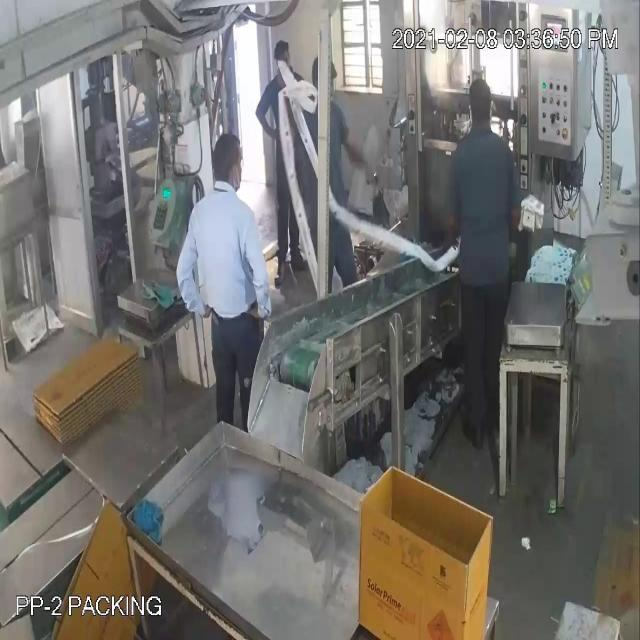No_Gloves: (34, 114, 259, 278)
